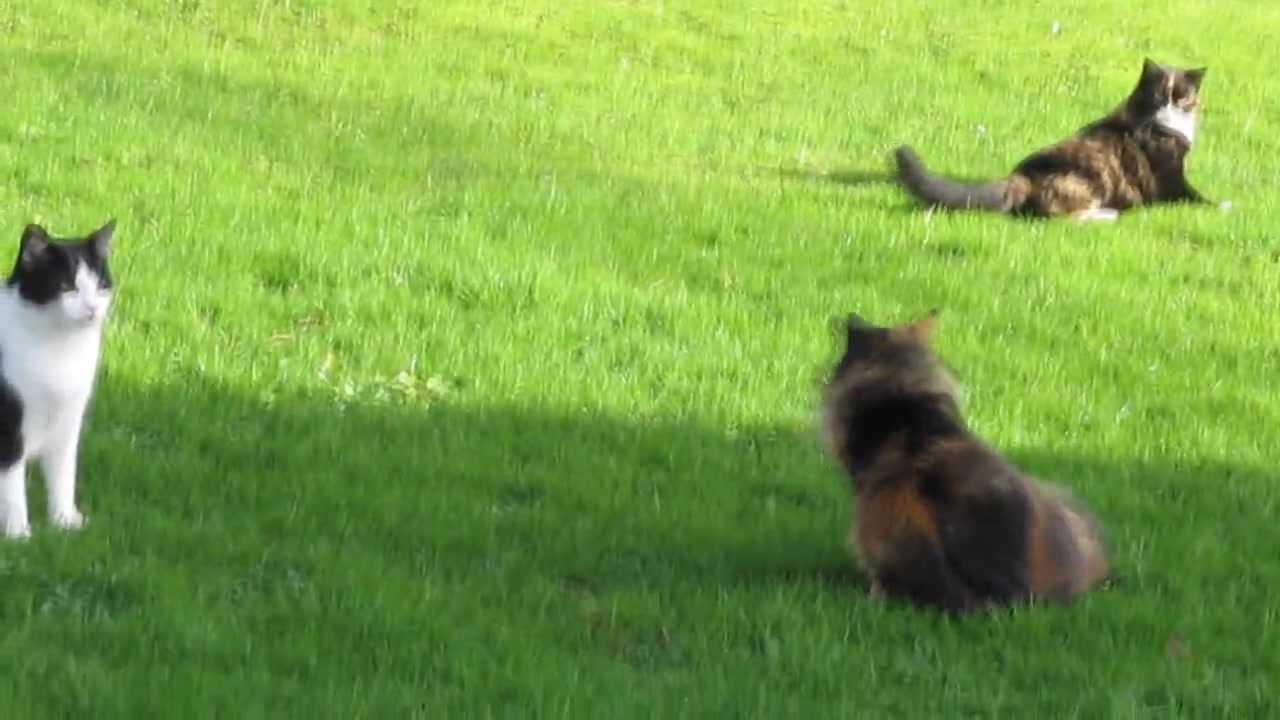cat: (822, 310, 1114, 613)
